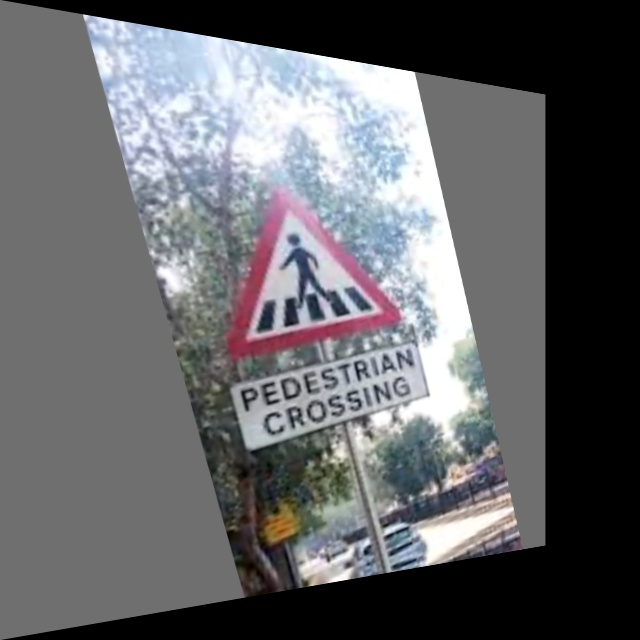Pedestrian_Crossing: (190, 149, 408, 362)
